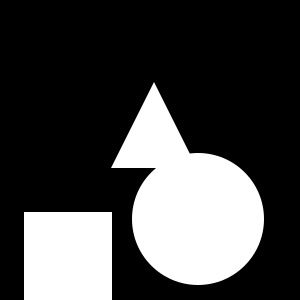circle: (24, 212, 112, 300)
rectangle: (132, 153, 264, 285), (197, 176, 221, 200)
triangle: (111, 82, 197, 168)
